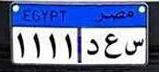1: (31, 32, 43, 61), (15, 31, 27, 59), (48, 32, 59, 59), (64, 33, 74, 61)
ain: (104, 33, 122, 60)
daal: (85, 38, 101, 57)
seen: (123, 35, 144, 58)
